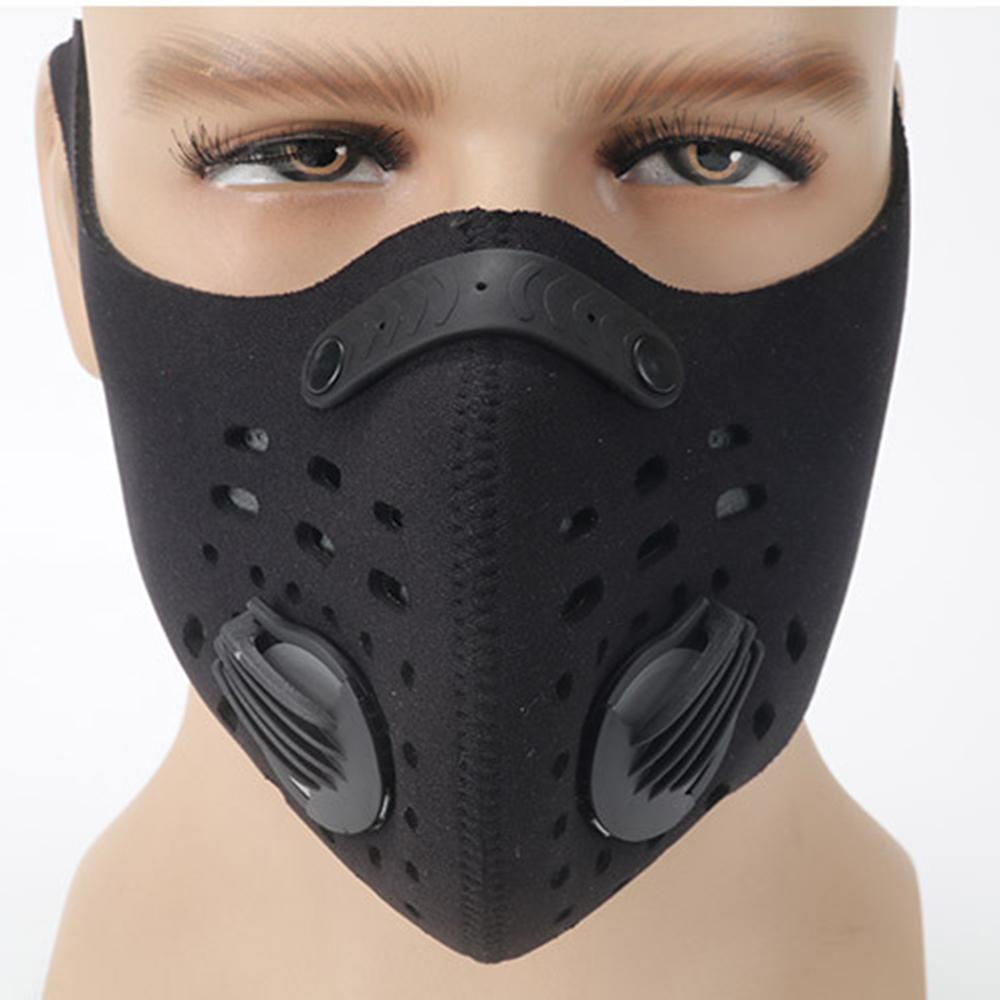Wearing Mask: (0, 0, 950, 1000)
